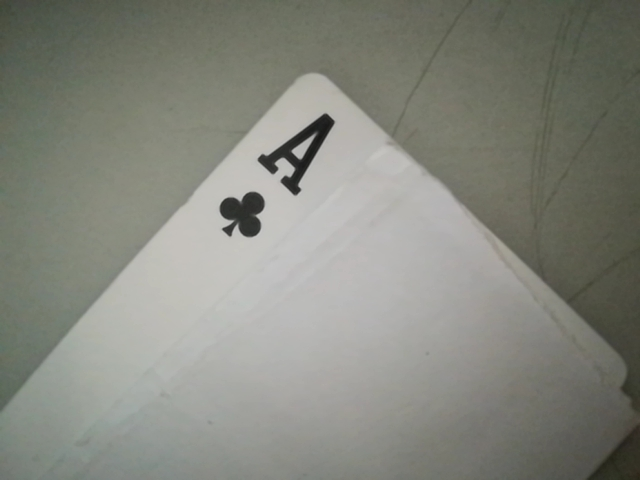mh a: (202, 104, 359, 249)
